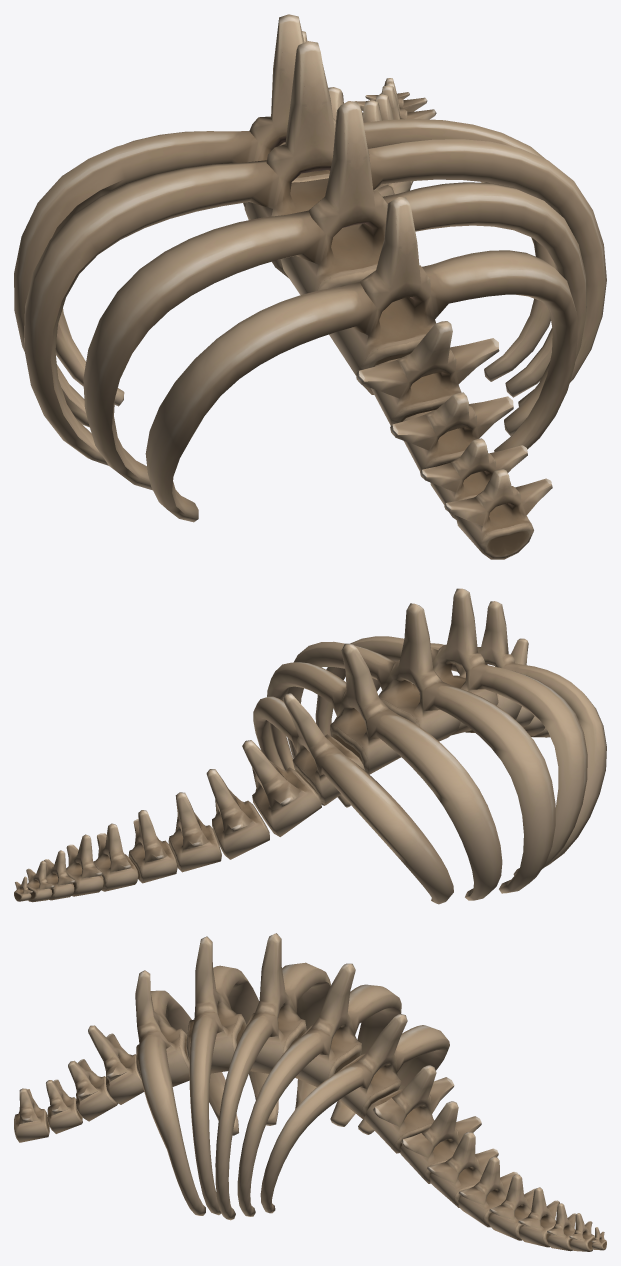
The model's file is DE_Skeleton_02.fbx.
3 renders of one model, top to bottom at view 1: azimuth 30°, elevation 25°; view 2: azimuth 150°, elevation 25°; view 3: azimuth 270°, elevation 25°, orthographic. The views are drawn at different scales.
Visible parts, largest first — view 1: DE_Skeleton_02; view 2: DE_Skeleton_02; view 3: DE_Skeleton_02.
Boxes of the visible parts, bbox=[...] form: DE_Skeleton_02: bbox=[14, 14, 606, 559]; DE_Skeleton_02: bbox=[14, 588, 606, 904]; DE_Skeleton_02: bbox=[14, 933, 606, 1251].
Size of the model in its own units: 2.55 by 1.64 by 3.57.
